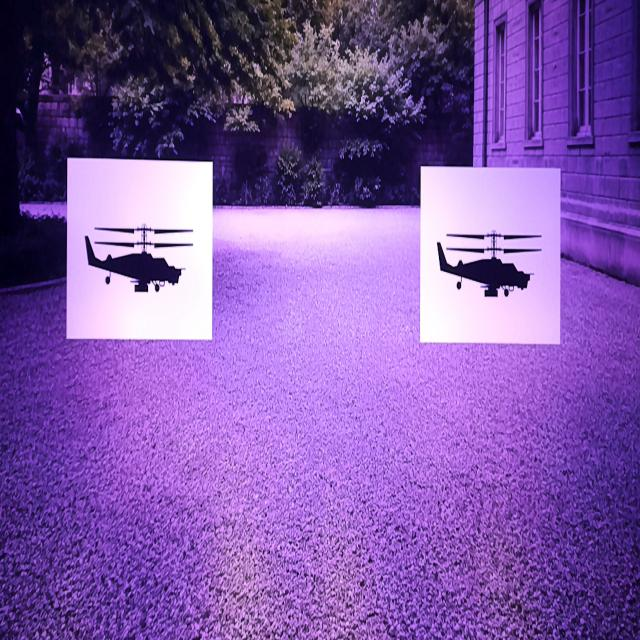Ka-52 Enemy: (86, 225, 192, 291), (438, 231, 541, 296)
